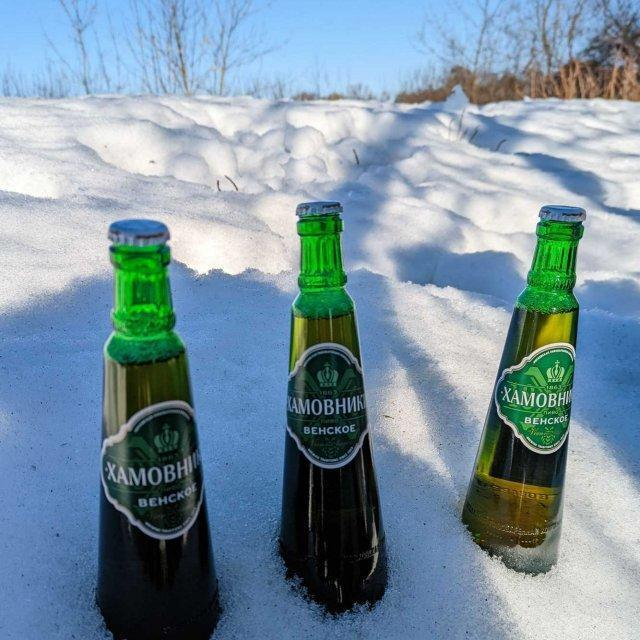Glass: (97, 219, 220, 640), (461, 204, 586, 576), (279, 198, 388, 616)
